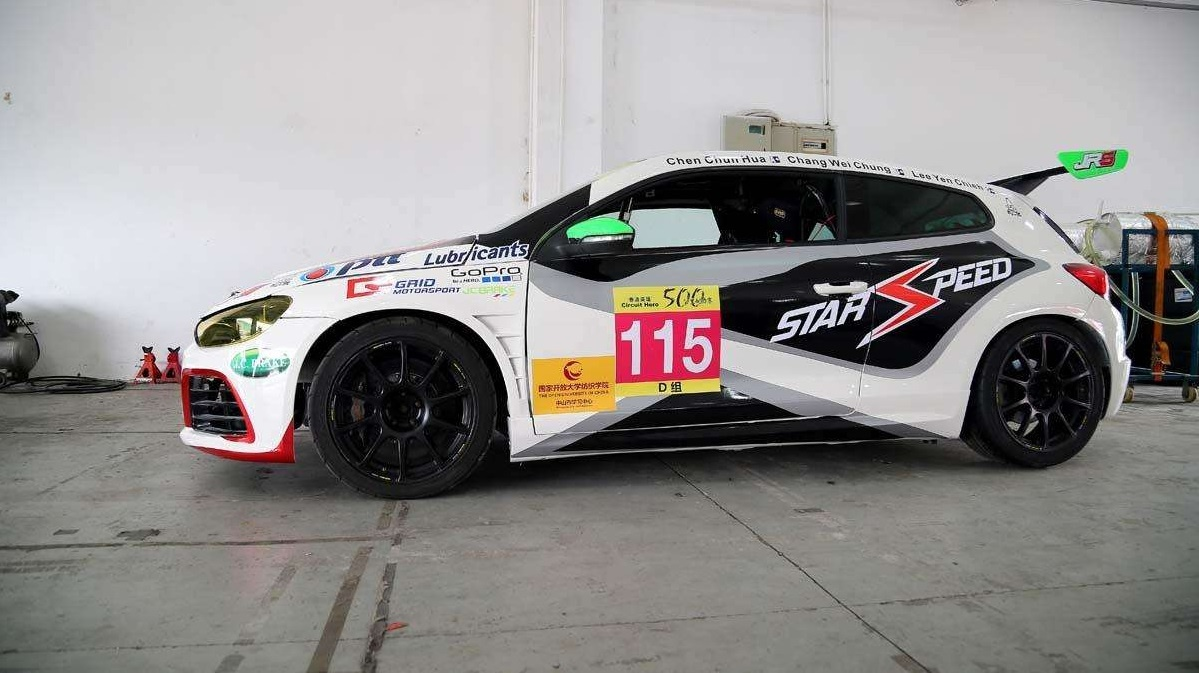racing car: (181, 127, 1125, 477)
